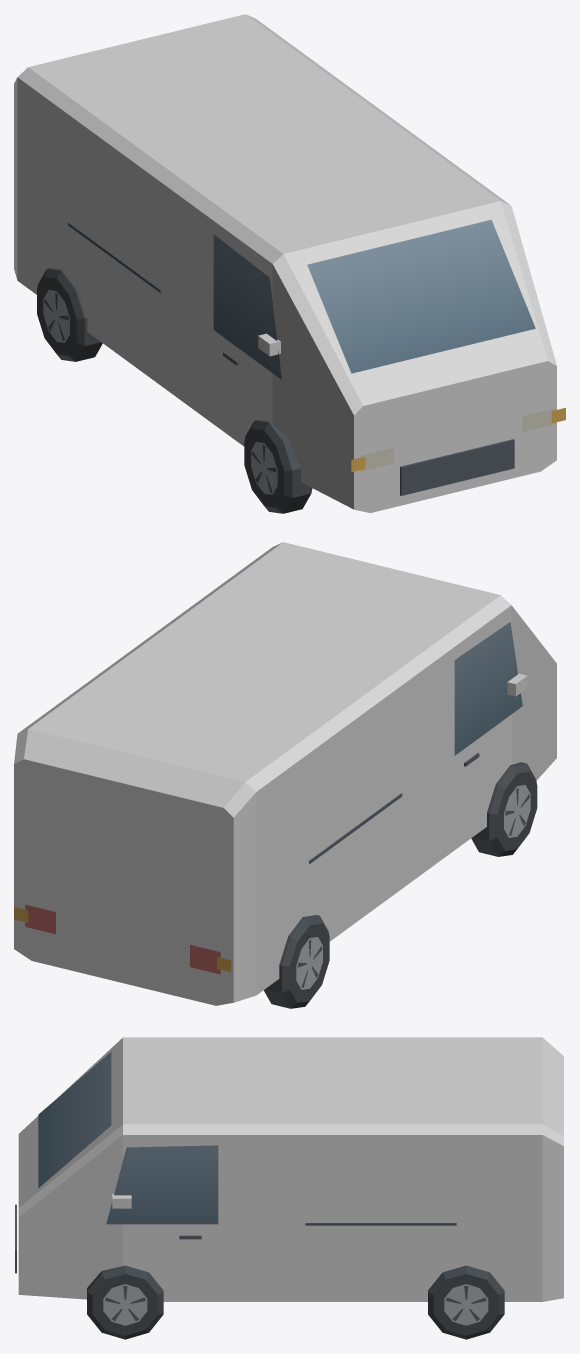
The model's file is van.glb.
The picture shows the model from 3 angles, top to bottom: view 1: azimuth 30°, elevation 25°; view 2: azimuth 150°, elevation 25°; view 3: azimuth 270°, elevation 25°; orthographic projection. The views are drawn at different scales.
Parts seen in each view (by area): view 1: body; view 2: body; view 3: body.
Boxes of the visible parts, x1=… form: body: x1=14, y1=14, x2=565, y2=513; body: x1=14, y1=542, x2=556, y2=1008; body: x1=15, y1=1037, x2=563, y2=1339.
Size of the model in its own units: 2.18 by 2.07 by 4.92.
